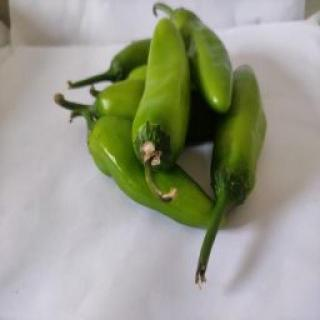Cabai Hijau: (194, 63, 268, 294), (129, 17, 191, 207)
